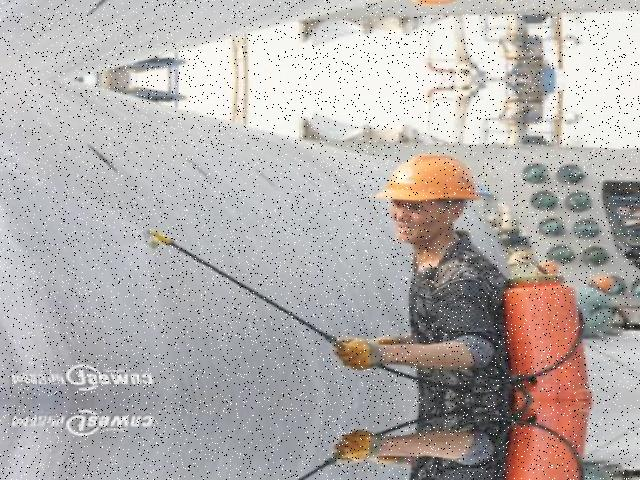Helmet: (378, 148, 486, 210)
